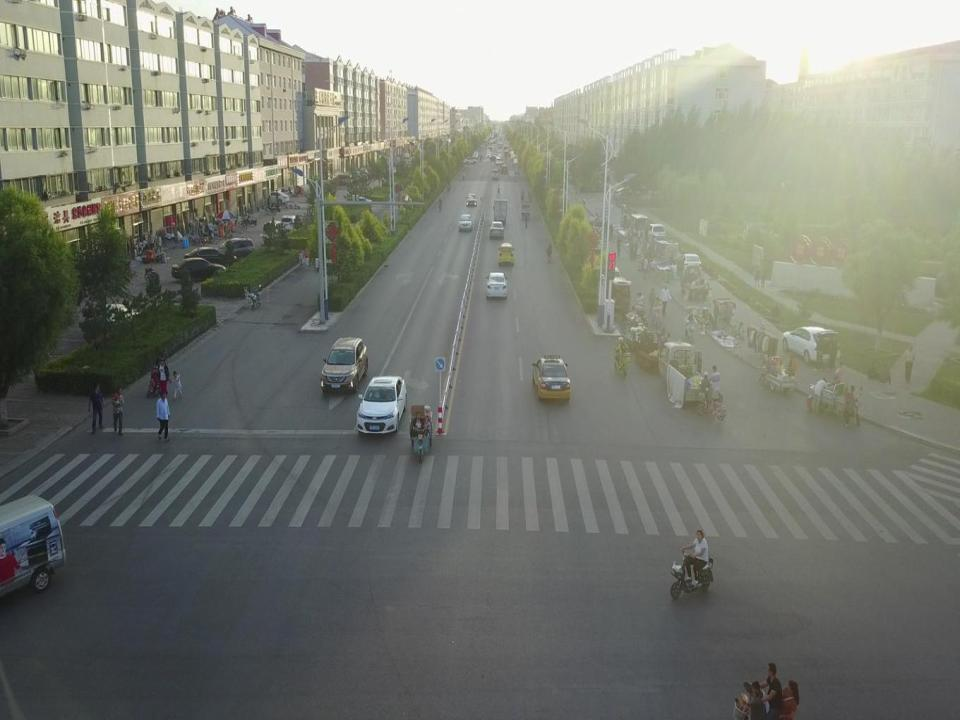car: (355, 376, 408, 436), (780, 321, 841, 366), (320, 338, 369, 391), (530, 354, 573, 403), (167, 255, 227, 281), (185, 247, 242, 271), (485, 272, 509, 298), (282, 215, 306, 239), (497, 243, 515, 266), (266, 217, 282, 240), (680, 255, 700, 271), (337, 170, 353, 188), (491, 220, 505, 240), (349, 194, 369, 208), (459, 210, 472, 231), (465, 191, 475, 208)
truck: (656, 339, 706, 402), (623, 213, 649, 238), (493, 198, 508, 220)
van: (0, 494, 71, 601), (76, 304, 144, 331), (221, 237, 254, 257), (651, 223, 668, 248)
